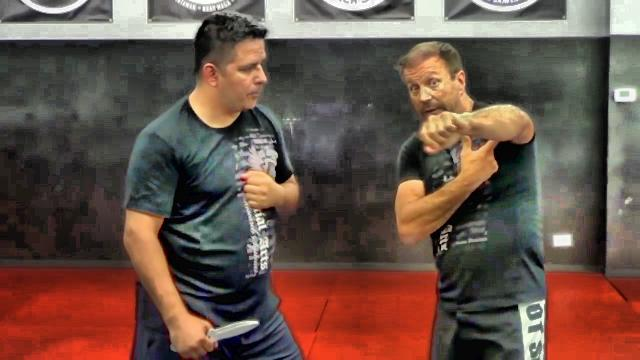knife: (165, 313, 263, 355)
